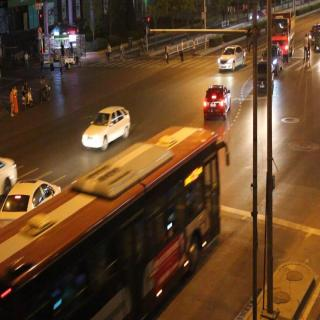BigCar: (1, 135, 222, 320), (266, 9, 297, 55)
Car: (80, 107, 131, 146), (203, 82, 232, 120), (217, 40, 244, 74), (256, 59, 274, 91), (266, 47, 280, 68)
